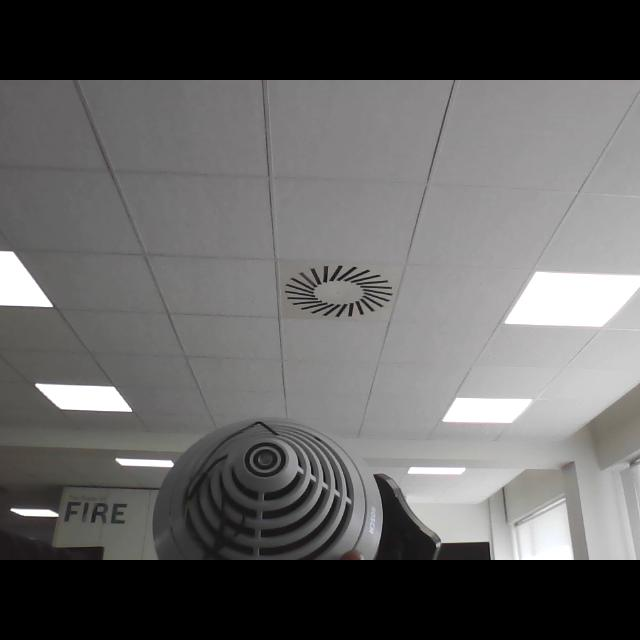Smoke-Detector: (150, 416, 384, 560)
